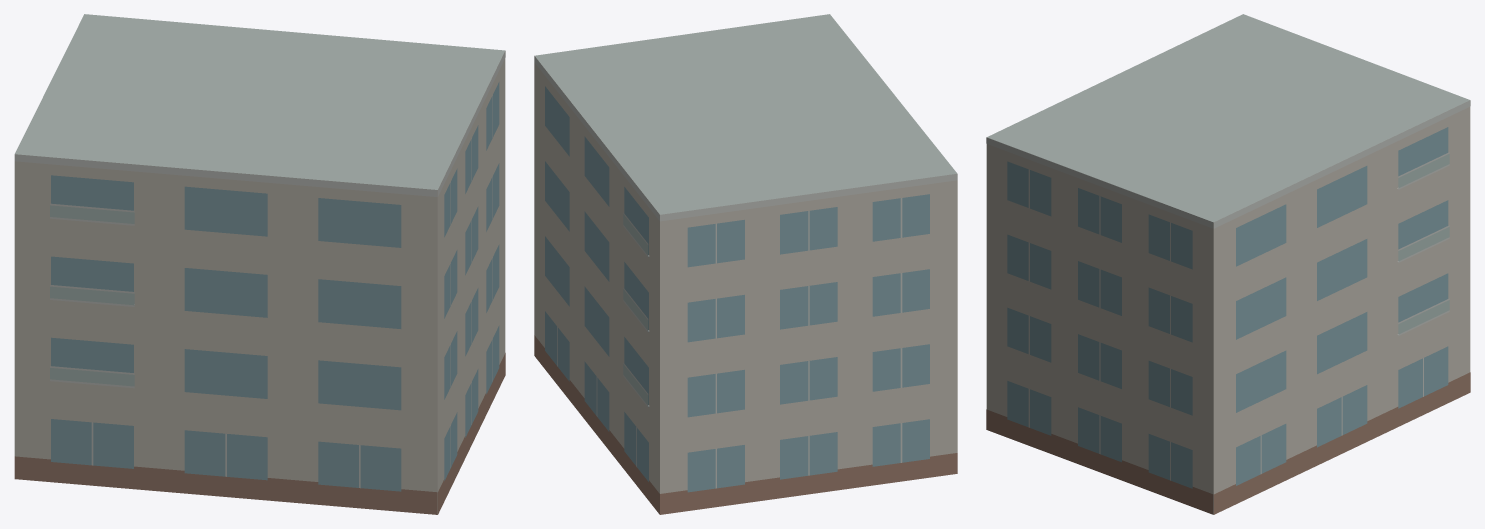
Rendered from survey-upis-32951298.glb.
3 views of the same model, side by side, from view 1: azimuth 30°, elevation 25°; view 2: azimuth 150°, elevation 25°; view 3: azimuth 270°, elevation 25° (orthographic). The views are drawn at different scales.
Parts seen in each view (by area): view 1: survey-upis-32951298.tmp; view 2: survey-upis-32951298.tmp; view 3: survey-upis-32951298.tmp.
Boxes of the visible parts, x1=… form: survey-upis-32951298.tmp: x1=14, y1=14, x2=505, y2=514; survey-upis-32951298.tmp: x1=534, y1=14, x2=957, y2=514; survey-upis-32951298.tmp: x1=986, y1=14, x2=1470, y2=514.
Size of the model in its own units: 17.04 by 11.14 by 16.71.
